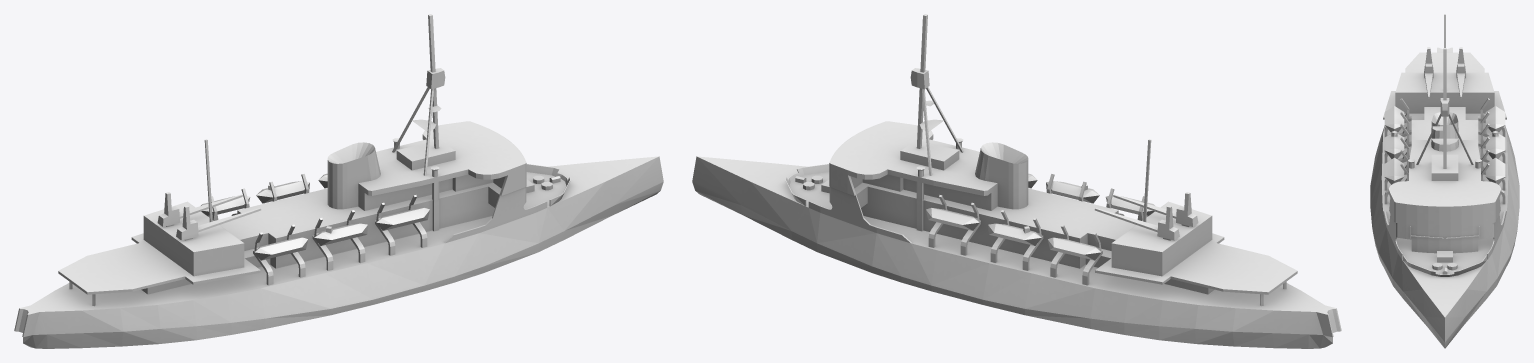
File: krasin.dae
3 views of the same model, side by side, from view 1: azimuth 30°, elevation 25°; view 2: azimuth 150°, elevation 25°; view 3: azimuth 270°, elevation 25° (orthographic). The views are drawn at different scales.
Visible parts, largest first — view 1: krasin; view 2: krasin; view 3: krasin.
Boxes of the visible parts, left/top/right/bottom form: krasin: left=14, top=14, right=663, bottom=348; krasin: left=692, top=14, right=1341, bottom=348; krasin: left=1370, top=14, right=1519, bottom=348.
Bounding box in the file's own units: 0.1537 × 0.0354 × 0.0534.
Materials: 1 (1 with a texture image).
